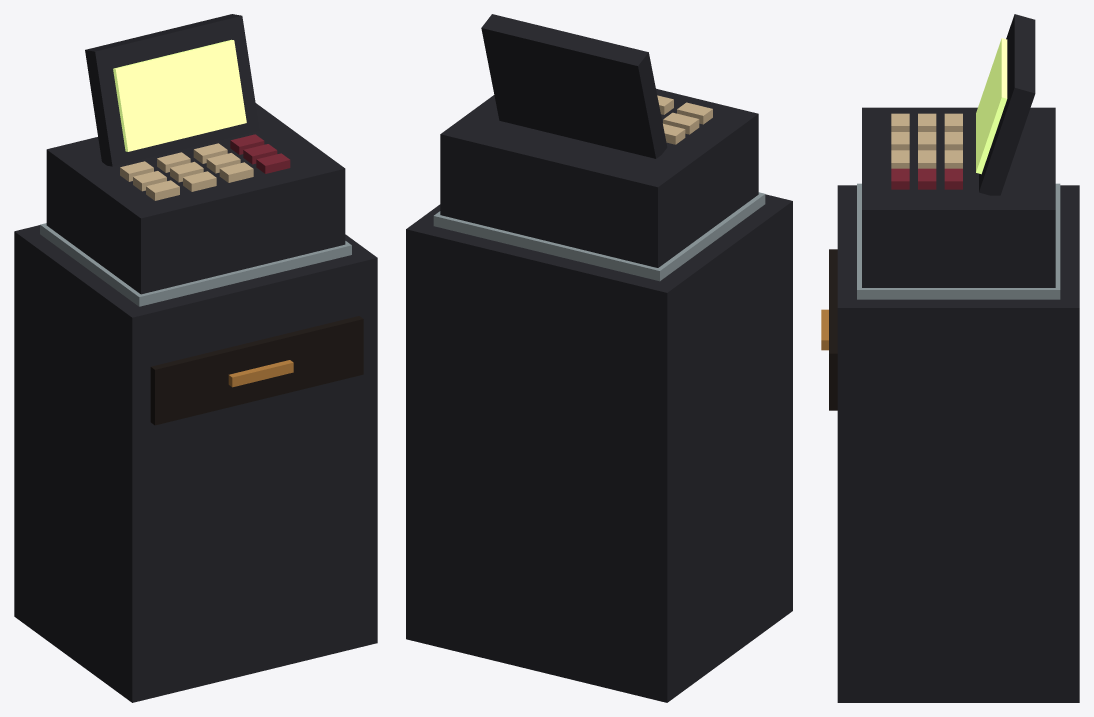
Rendered from mia-cash_register.glb.
3 views of the same model, side by side, from view 1: azimuth 30°, elevation 25°; view 2: azimuth 150°, elevation 25°; view 3: azimuth 270°, elevation 25° (orthographic). The views are drawn at different scales.
Visible parts, largest first — view 1: Body_iron, Body_black, Body_gas-glass, Body_steel, Body_ivory, Body_velvet, Body_brass; view 2: Body_iron, Body_steel, Body_ivory; view 3: Body_iron, Body_steel, Body_ivory, Body_gas-glass, Body_black, Body_velvet.
Boxes of the visible parts, box(x1,y1,x2,y2) form: Body_iron: box(14, 14, 377, 702); Body_black: box(150, 316, 363, 425); Body_gas-glass: box(113, 39, 246, 151); Body_steel: box(40, 223, 351, 306); Body_ivory: box(120, 143, 253, 200); Body_velvet: box(230, 134, 290, 173); Body_brass: box(228, 360, 293, 387); Body_iron: box(406, 14, 792, 702); Body_steel: box(433, 192, 765, 281); Body_ivory: box(657, 95, 712, 144); Body_iron: box(837, 14, 1079, 702); Body_steel: box(857, 183, 1060, 299); Body_ivory: box(891, 113, 962, 168); Body_gas-glass: box(976, 38, 1007, 174); Body_black: box(829, 249, 837, 410); Body_velvet: box(891, 168, 962, 189).
Bounding box in the file's own units: 0.6 × 1.35 × 0.534.
